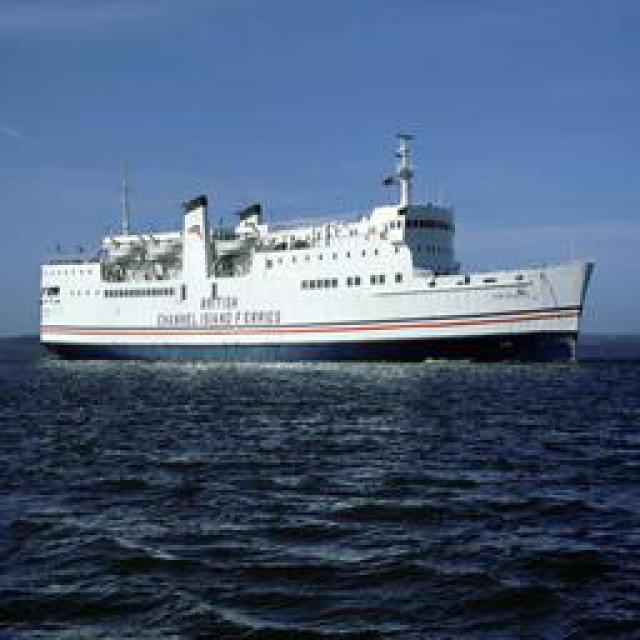Ship: (45, 126, 595, 364)
